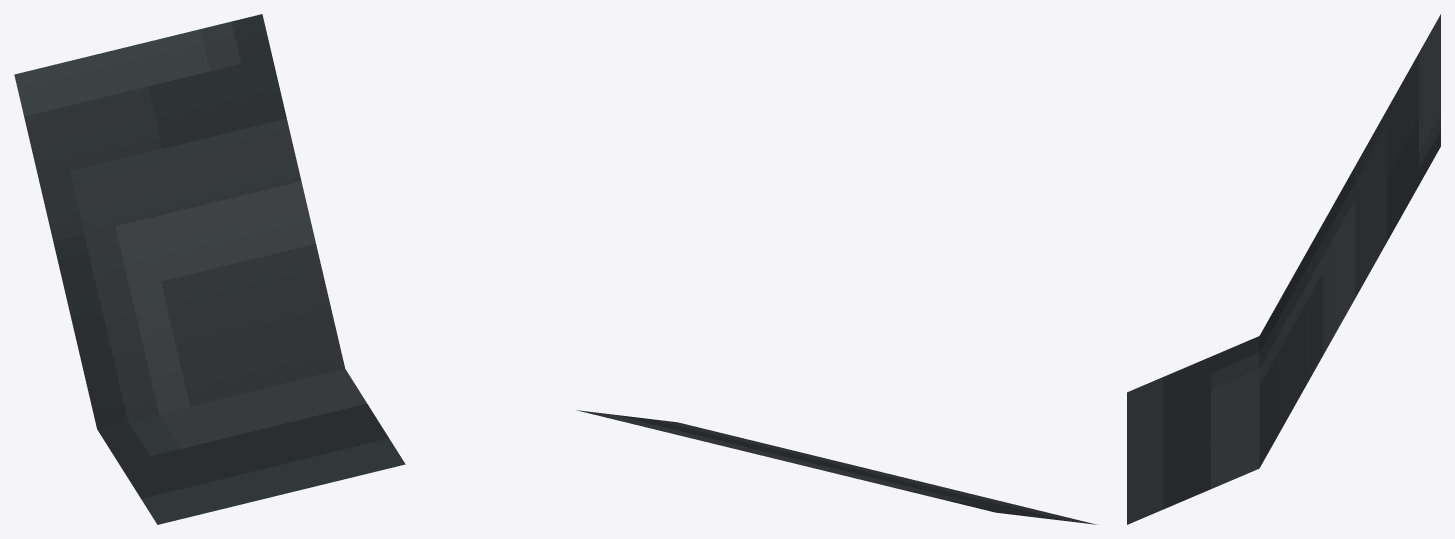
3 views of the same model, side by side, from view 1: azimuth 30°, elevation 25°; view 2: azimuth 150°, elevation 25°; view 3: azimuth 270°, elevation 25° (orthographic). The views are drawn at different scales.
Bounding box in the file's own units: 0.5 × 0.6652 × 0.5.
1 material, 1 textured.
